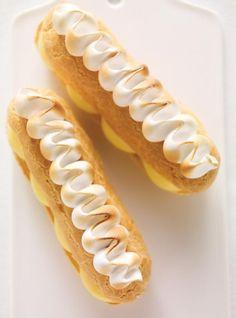eclair: (9, 101, 129, 305), (114, 19, 211, 214)
